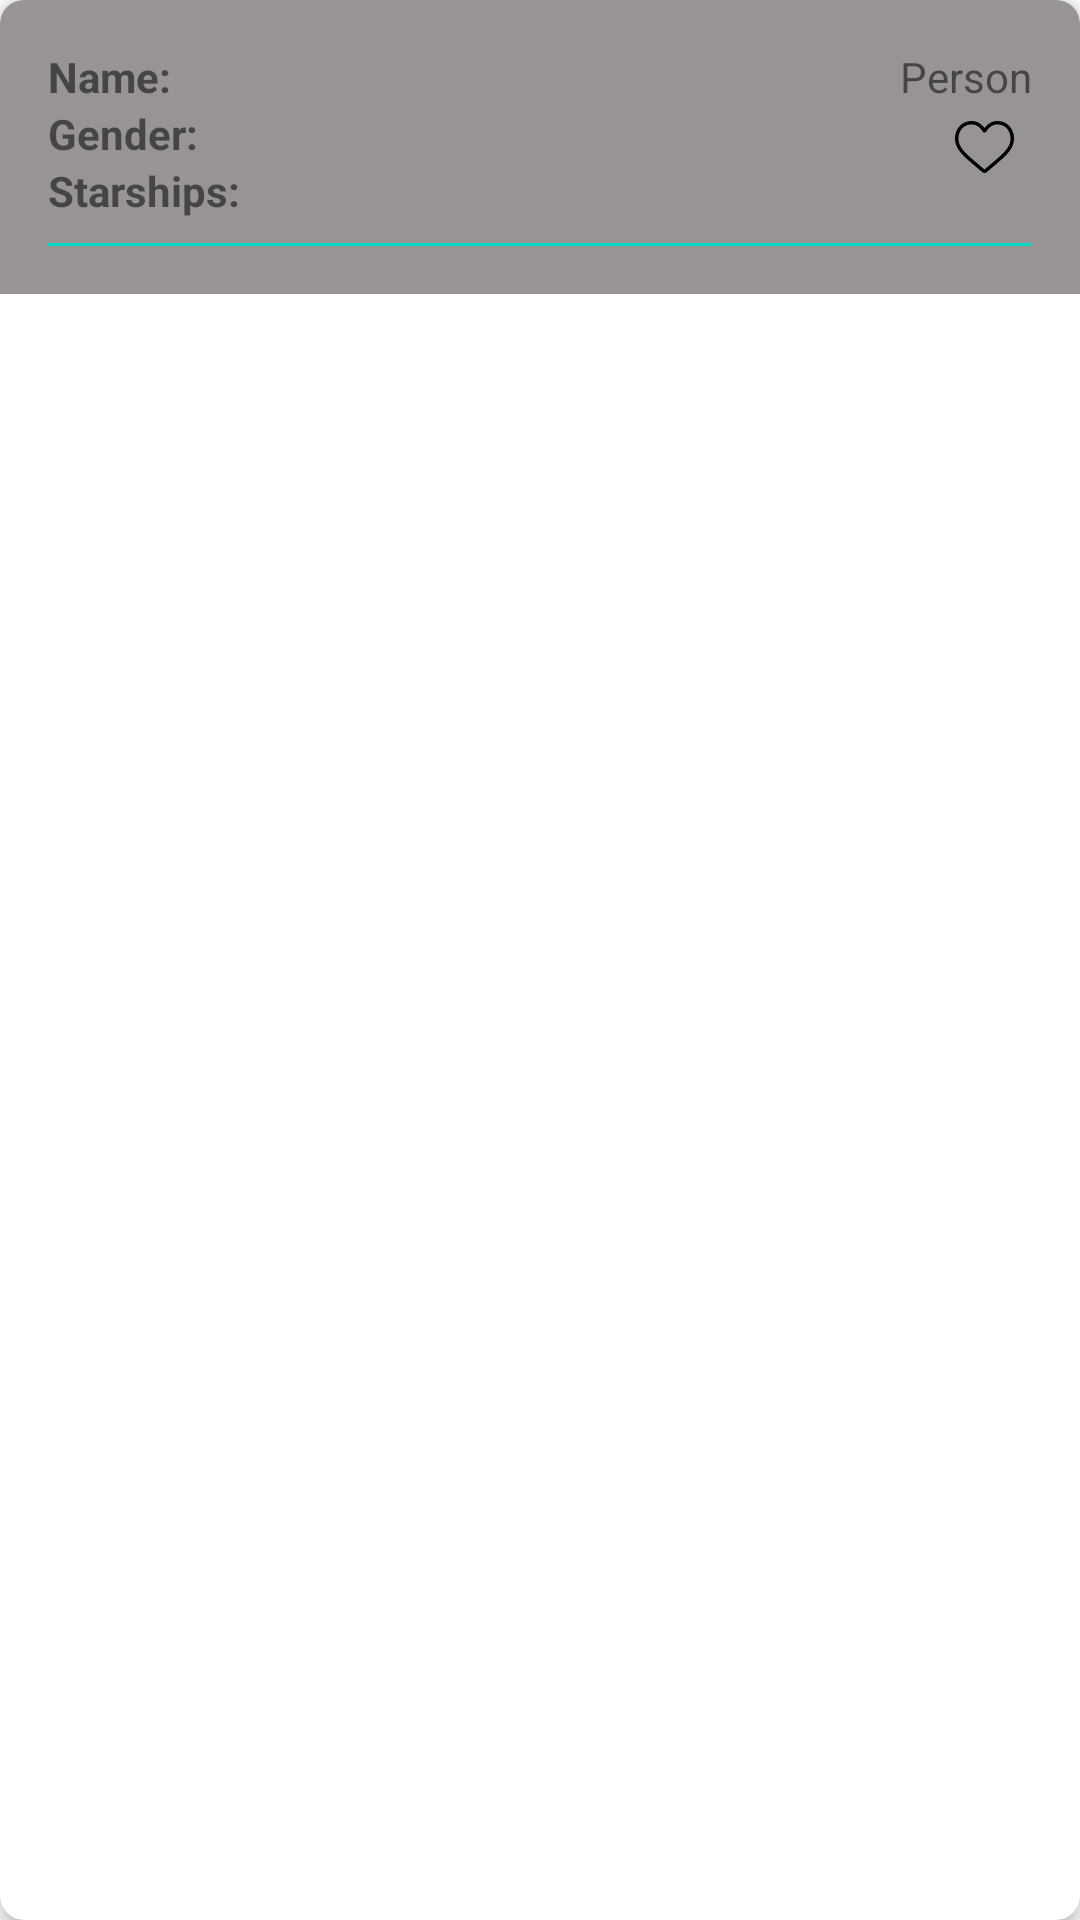

Point at icon controls on the screen. Image size 1080x1920, points as (x,y).
for adding favorites: (984,147)
